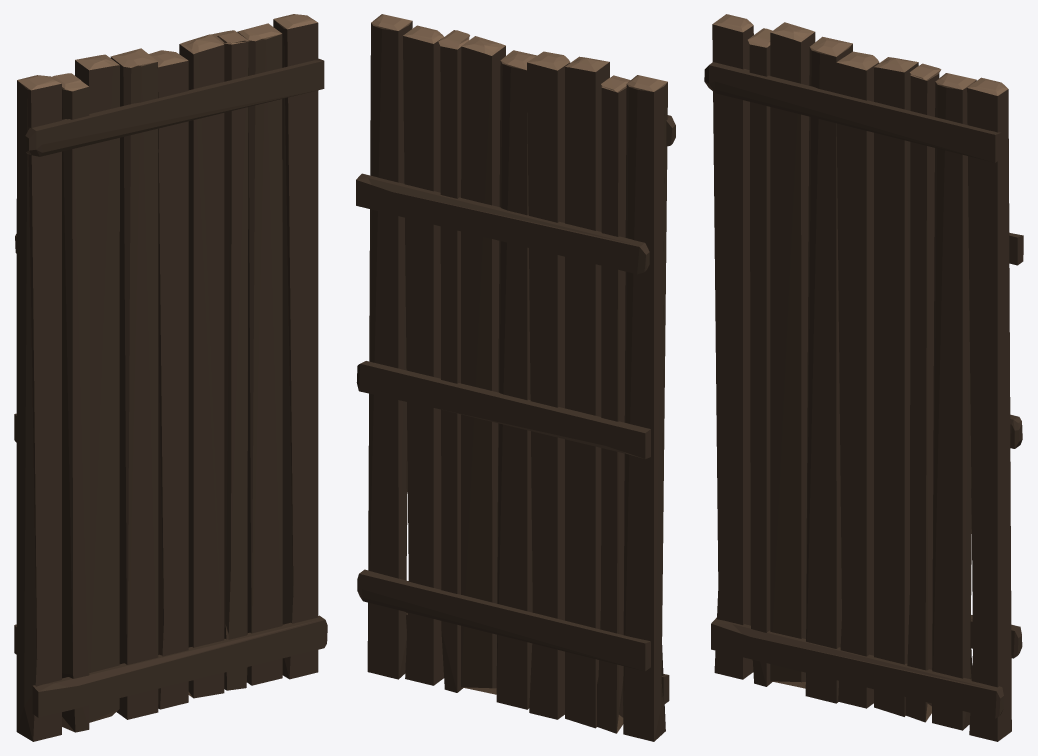
Rendered from SM_gate_doors_norse.fbx.
3 views of the same model, side by side, from view 1: azimuth 30°, elevation 25°; view 2: azimuth 150°, elevation 25°; view 3: azimuth 330°, elevation 25° (orthographic).
Visible parts, largest first — view 1: Object550; view 2: Object550; view 3: Object550.
Part boxes in pixels (<box>): Object550: <box>14,14,327,741</box>; Object550: <box>356,14,675,741</box>; Object550: <box>704,14,1023,741</box>.
Size of the model in its own units: 108 by 229 by 15.16.
